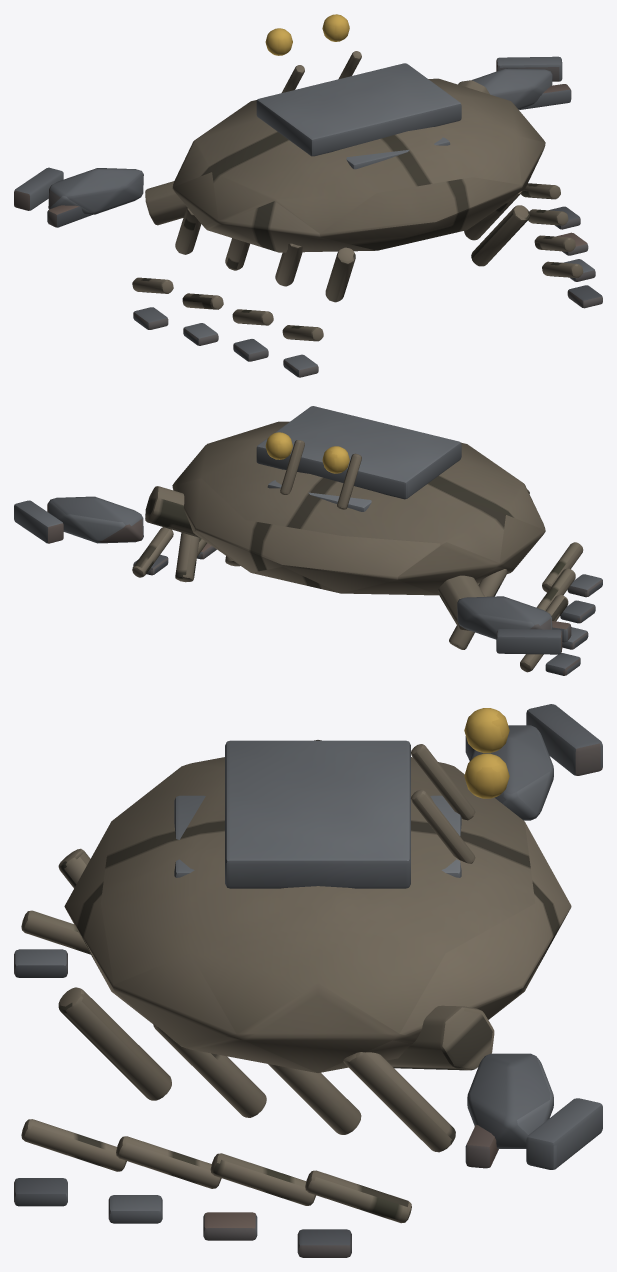
The model's file is unit_freetown_warrior_crab.fbx.
3 renders of one model, top to bottom at view 1: azimuth 30°, elevation 25°; view 2: azimuth 150°, elevation 25°; view 3: azimuth 270°, elevation 25°, orthographic. The views are drawn at different scales.
Visible parts, largest first — view 1: unit_freetown_warrior_crab; view 2: unit_freetown_warrior_crab; view 3: unit_freetown_warrior_crab.
Part boxes in pixels (box(x1,y1,x2,y2)): unit_freetown_warrior_crab: box(14, 14, 602, 377); unit_freetown_warrior_crab: box(14, 406, 602, 675); unit_freetown_warrior_crab: box(14, 704, 602, 1257).
Size of the model in its own units: 3.08 by 1.16 by 1.74.
